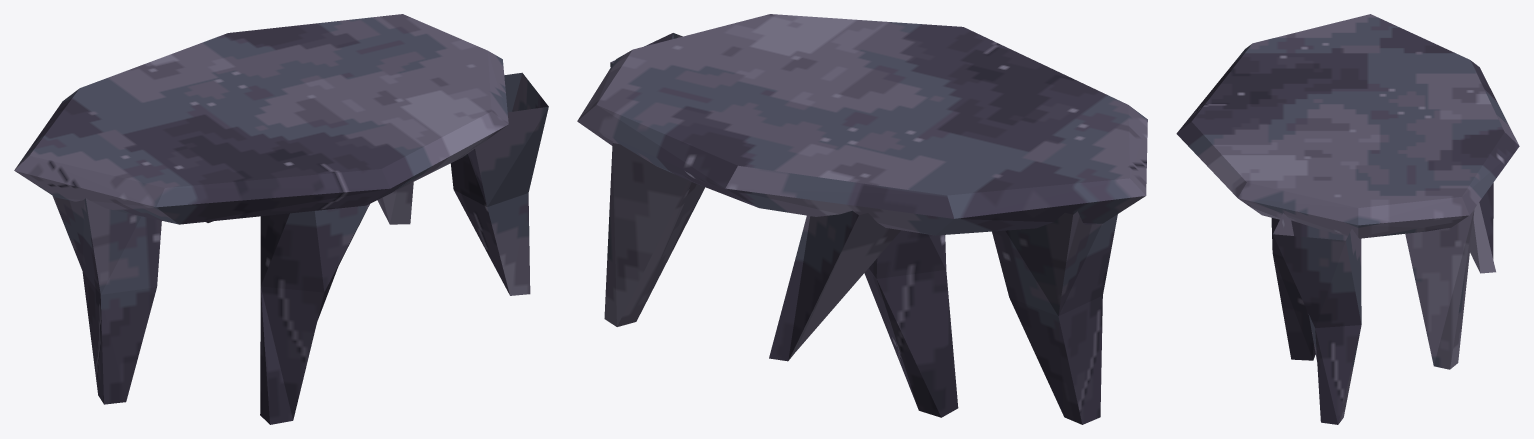
The model's file is SM_CV_StalactitesB.fbx.
3 renders of one model, left to right at view 1: azimuth 30°, elevation 25°; view 2: azimuth 150°, elevation 25°; view 3: azimuth 270°, elevation 25°, orthographic. The views are drawn at different scales.
Parts seen in each view (by area): view 1: CV_StalactitesB_Plate, CV_StalactitesB_Spikes; view 2: CV_StalactitesB_Plate, CV_StalactitesB_Spikes; view 3: CV_StalactitesB_Plate, CV_StalactitesB_Spikes.
Boxes of the visible parts, x1=… form: CV_StalactitesB_Plate: x1=14, y1=14, x2=508, y2=224; CV_StalactitesB_Spikes: x1=52, y1=72, x2=548, y2=424; CV_StalactitesB_Plate: x1=577, y1=14, x2=1147, y2=235; CV_StalactitesB_Spikes: x1=604, y1=33, x2=1117, y2=424; CV_StalactitesB_Plate: x1=1176, y1=14, x2=1519, y2=238; CV_StalactitesB_Spikes: x1=1271, y1=182, x2=1495, y2=424.
Bounding box in the file's own units: 0.9865 × 0.545 × 0.6739.
